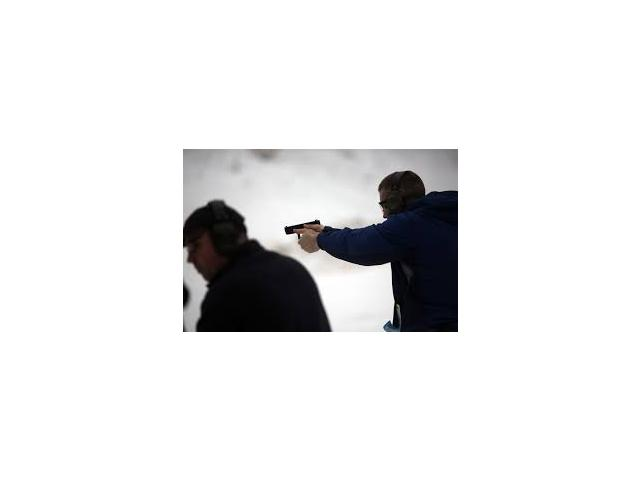pistol: (284, 220, 322, 254)
